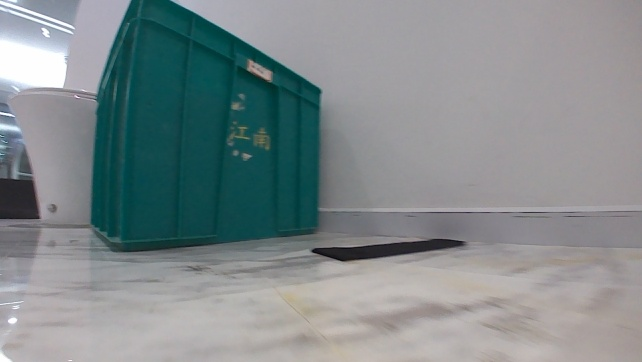socks: (309, 235, 468, 263)
toilet: (9, 83, 98, 226)
